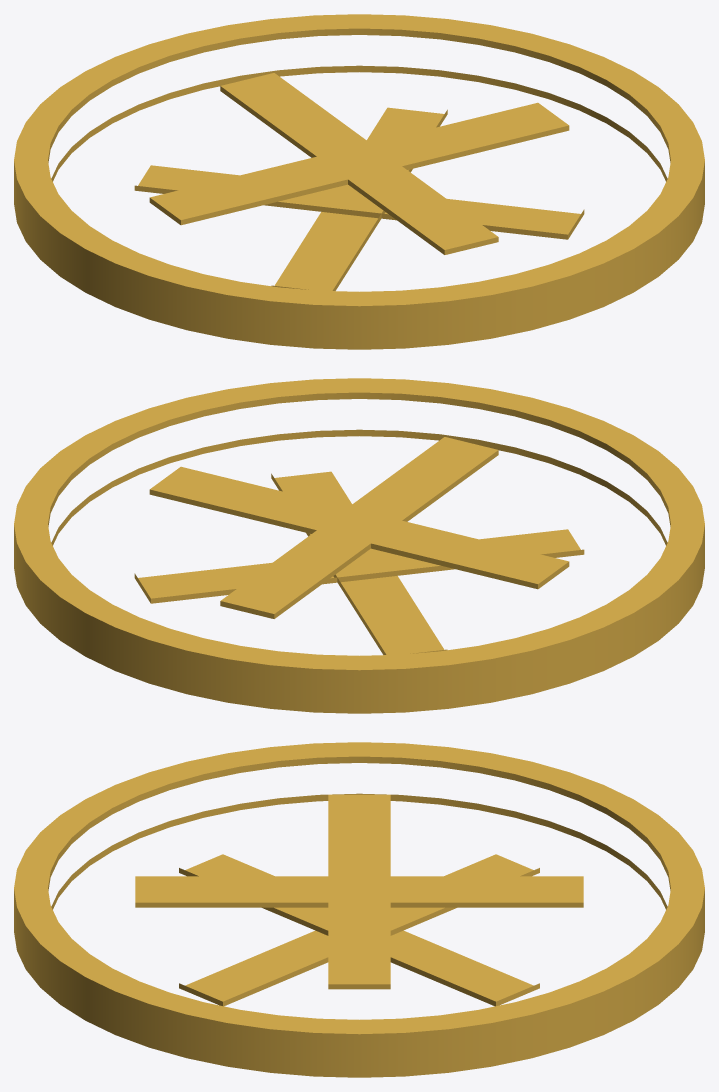
The model's file is ecu.glb.
The picture shows the model from 3 angles, top to bottom: view 1: azimuth 30°, elevation 25°; view 2: azimuth 150°, elevation 25°; view 3: azimuth 270°, elevation 25°; orthographic projection.
Visible parts, largest first — view 1: ecu; view 2: ecu; view 3: ecu.
Part boxes in pixels (x1,y1,x2,y2): ecu: (14,14,704,349); ecu: (14,378,704,713); ecu: (14,742,704,1077).
Size of the model in its own units: 0.0244 by 0.0017 by 0.0244.
